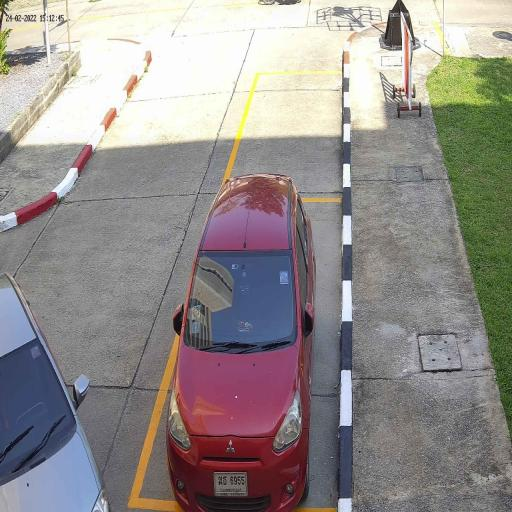car: (165, 174, 318, 512), (0, 268, 112, 512)
